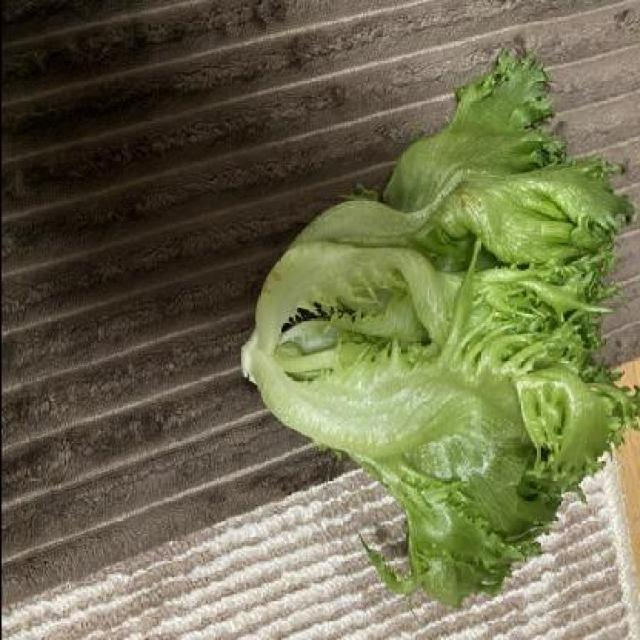Lettuce: (241, 41, 640, 600)
